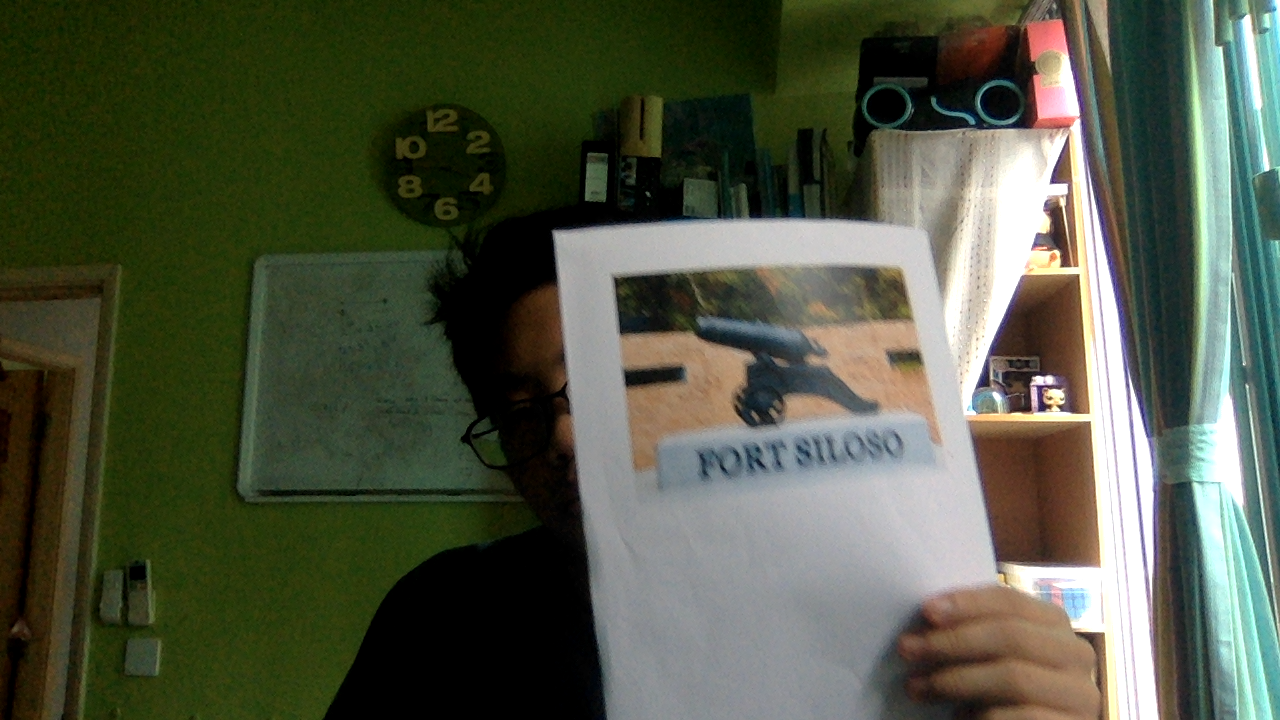siloso: (625, 240, 931, 491)
